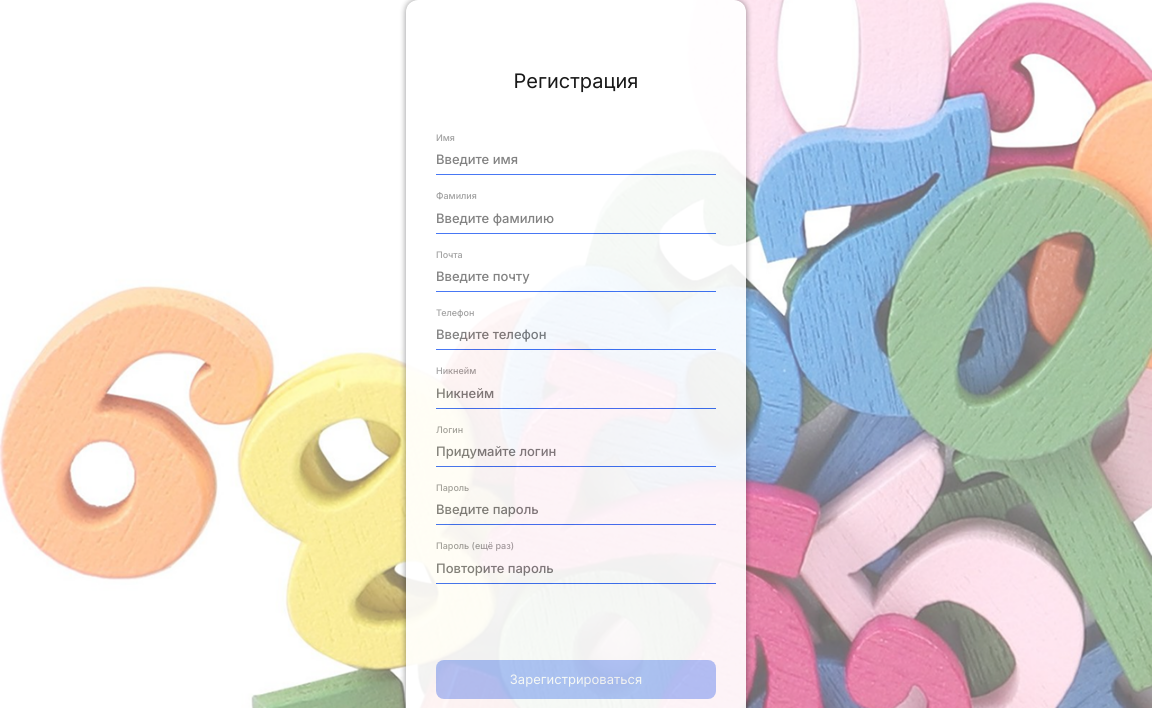
Test: SignUpPage › shows error validate for phone
Type "12345" into the field labelled "Телефон" at coordinates (576, 334), box [436,318,716,350]
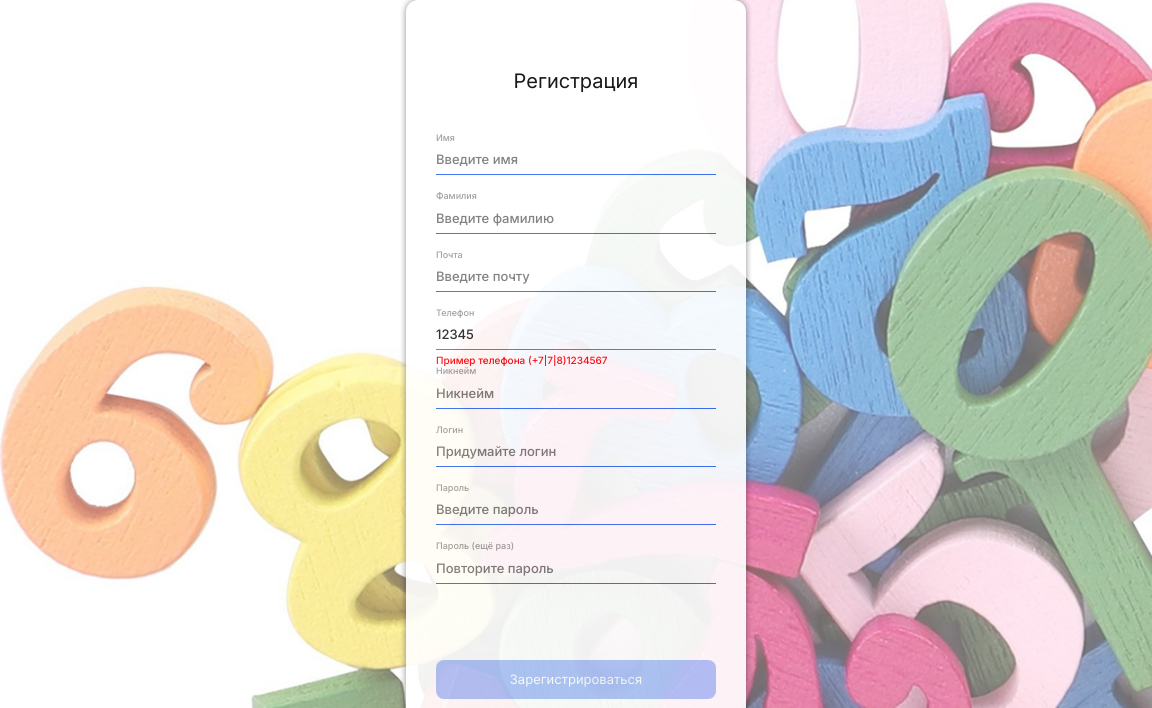
expect the text "Пример телефона (+7|7|8)1234567" is shown: met, box [436,355,608,366]
